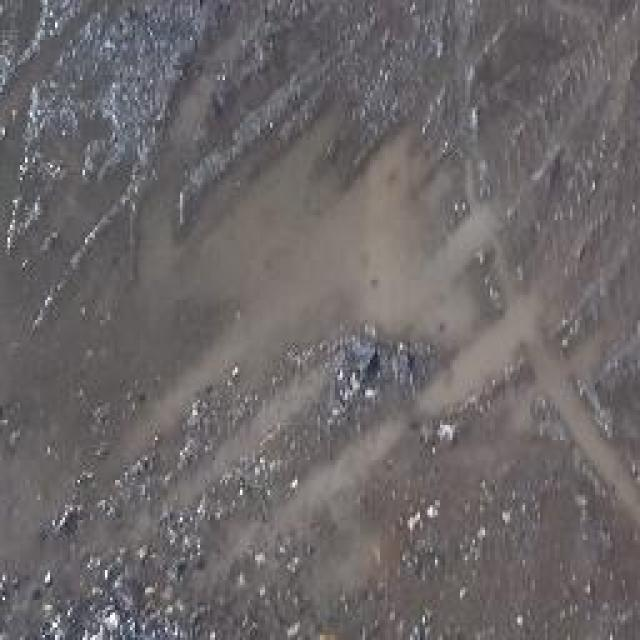stagnation: (85, 131, 568, 555)
